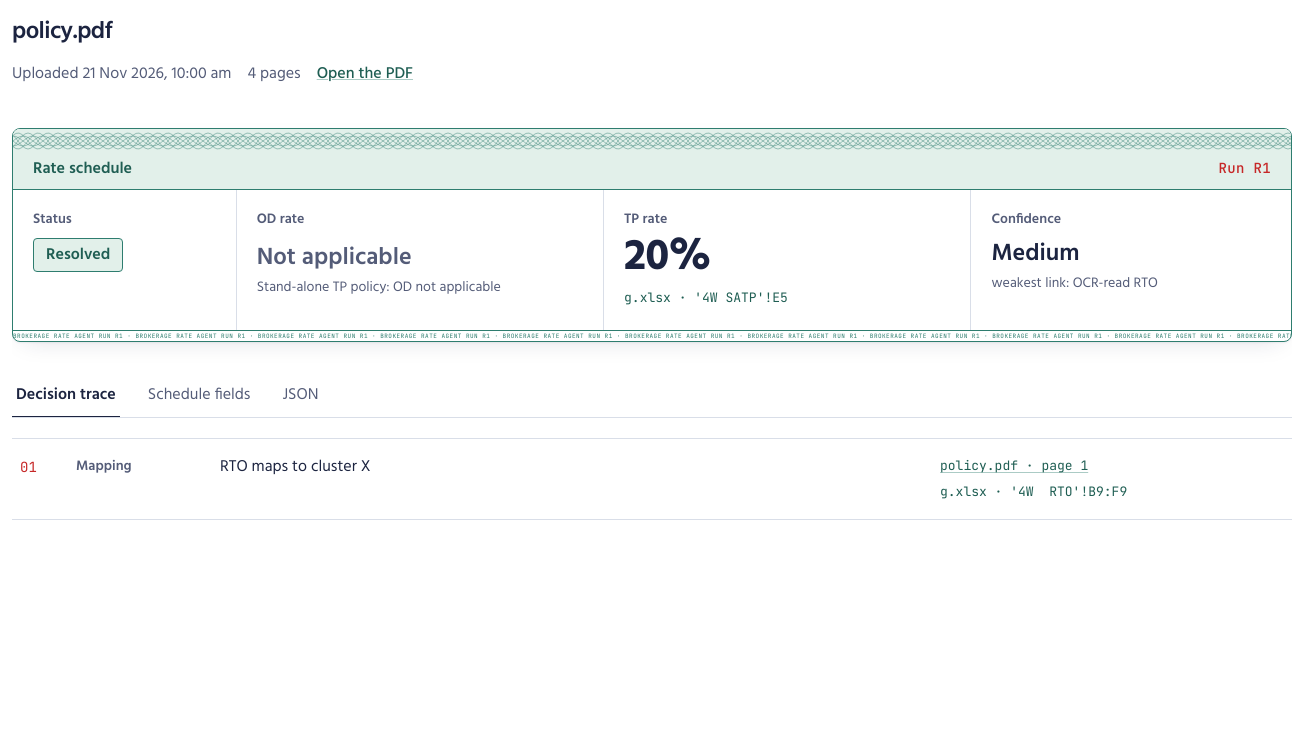
Test case: done state shows rates, trace with exact citations, facts and confidence
The width and height of the screenshot is (1304, 732).
Expected: the text "Not applicable" is shown, [257,239,412,277]
Expected: the text "Stand-alone TP policy: OD not applicable" is shown, [257,276,501,299]
Click the tab "Schedule fields".
click(199, 396)  # box [144,374,254,418]
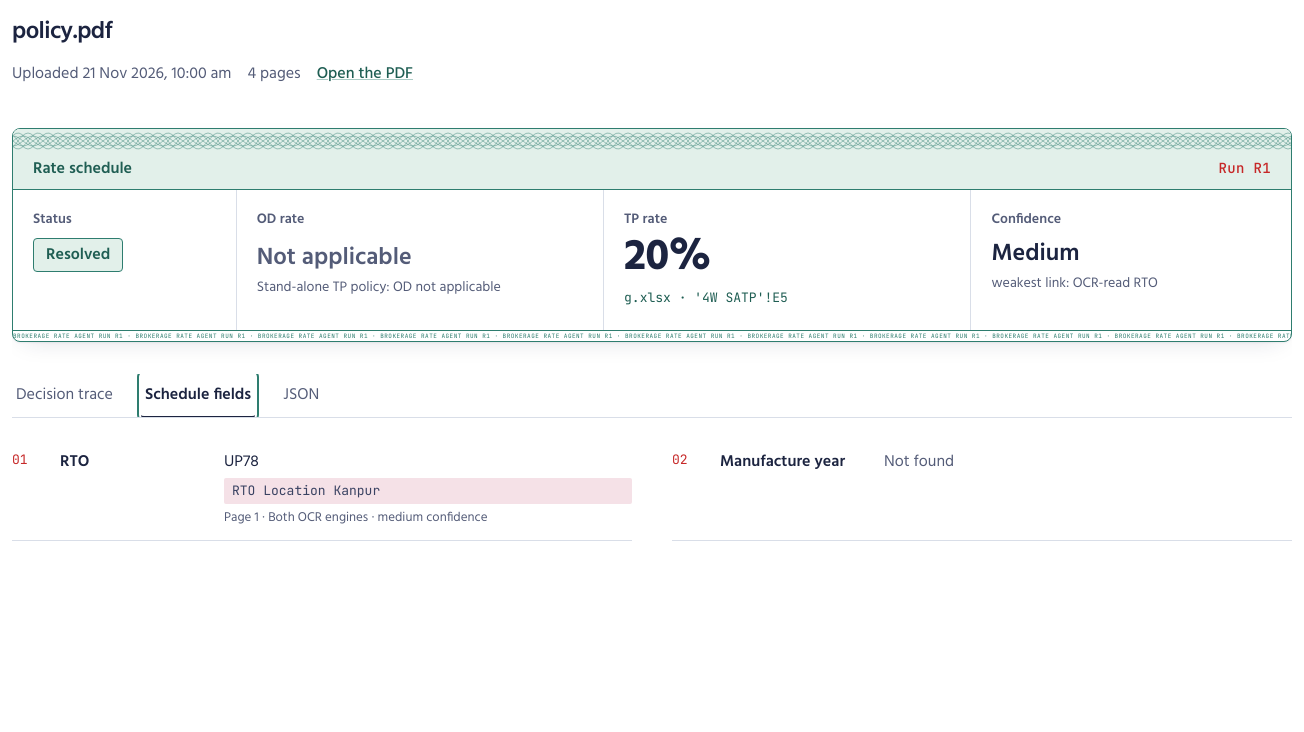
Expected: the text "weakest link: OCR-read RTO" is shown, [992,272,1158,295]
Expected: the text "Not found" is shown, [884,449,954,475]
